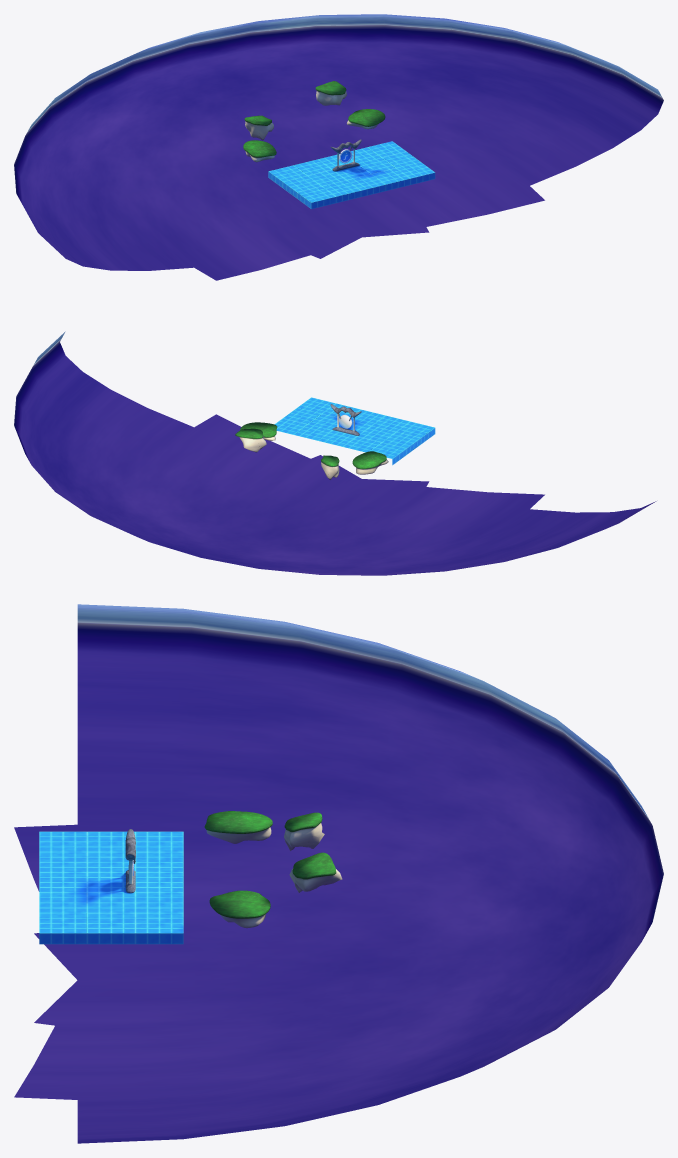
The model's file is stage3d.glb.
3 renders of one model, top to bottom at view 1: azimuth 30°, elevation 25°; view 2: azimuth 150°, elevation 25°; view 3: azimuth 270°, elevation 25°, orthographic. The views are drawn at different scales.
Visible parts, largest first — view 1: 00, Platform, Island 4, Island 2, Island 1, Island 3; view 2: 00, Platform, Island 1, Island 4; view 3: 00, Platform, Island 1, Island 2, Island 4, Island 3.
Boxes of the visible parts, x1,y1,x2,y2 form: 00: (14,14,663,280); Platform: (268,141,435,209); Island 4: (315,81,346,105); Island 2: (347,109,385,129); Island 1: (243,140,276,162); Island 3: (244,115,273,140); 00: (14,331,656,575); Platform: (274,397,435,465); Island 1: (352,451,388,474); Island 4: (235,428,266,452); 00: (14,604,663,1143); Platform: (39,831,183,944); Island 1: (204,811,272,843); Island 2: (209,890,270,928); Island 4: (289,852,342,892); Island 3: (284,812,324,850).
Size of the model in its own units: 195 by 38.99 by 108.
Materials: 2 (2 with a texture image).
